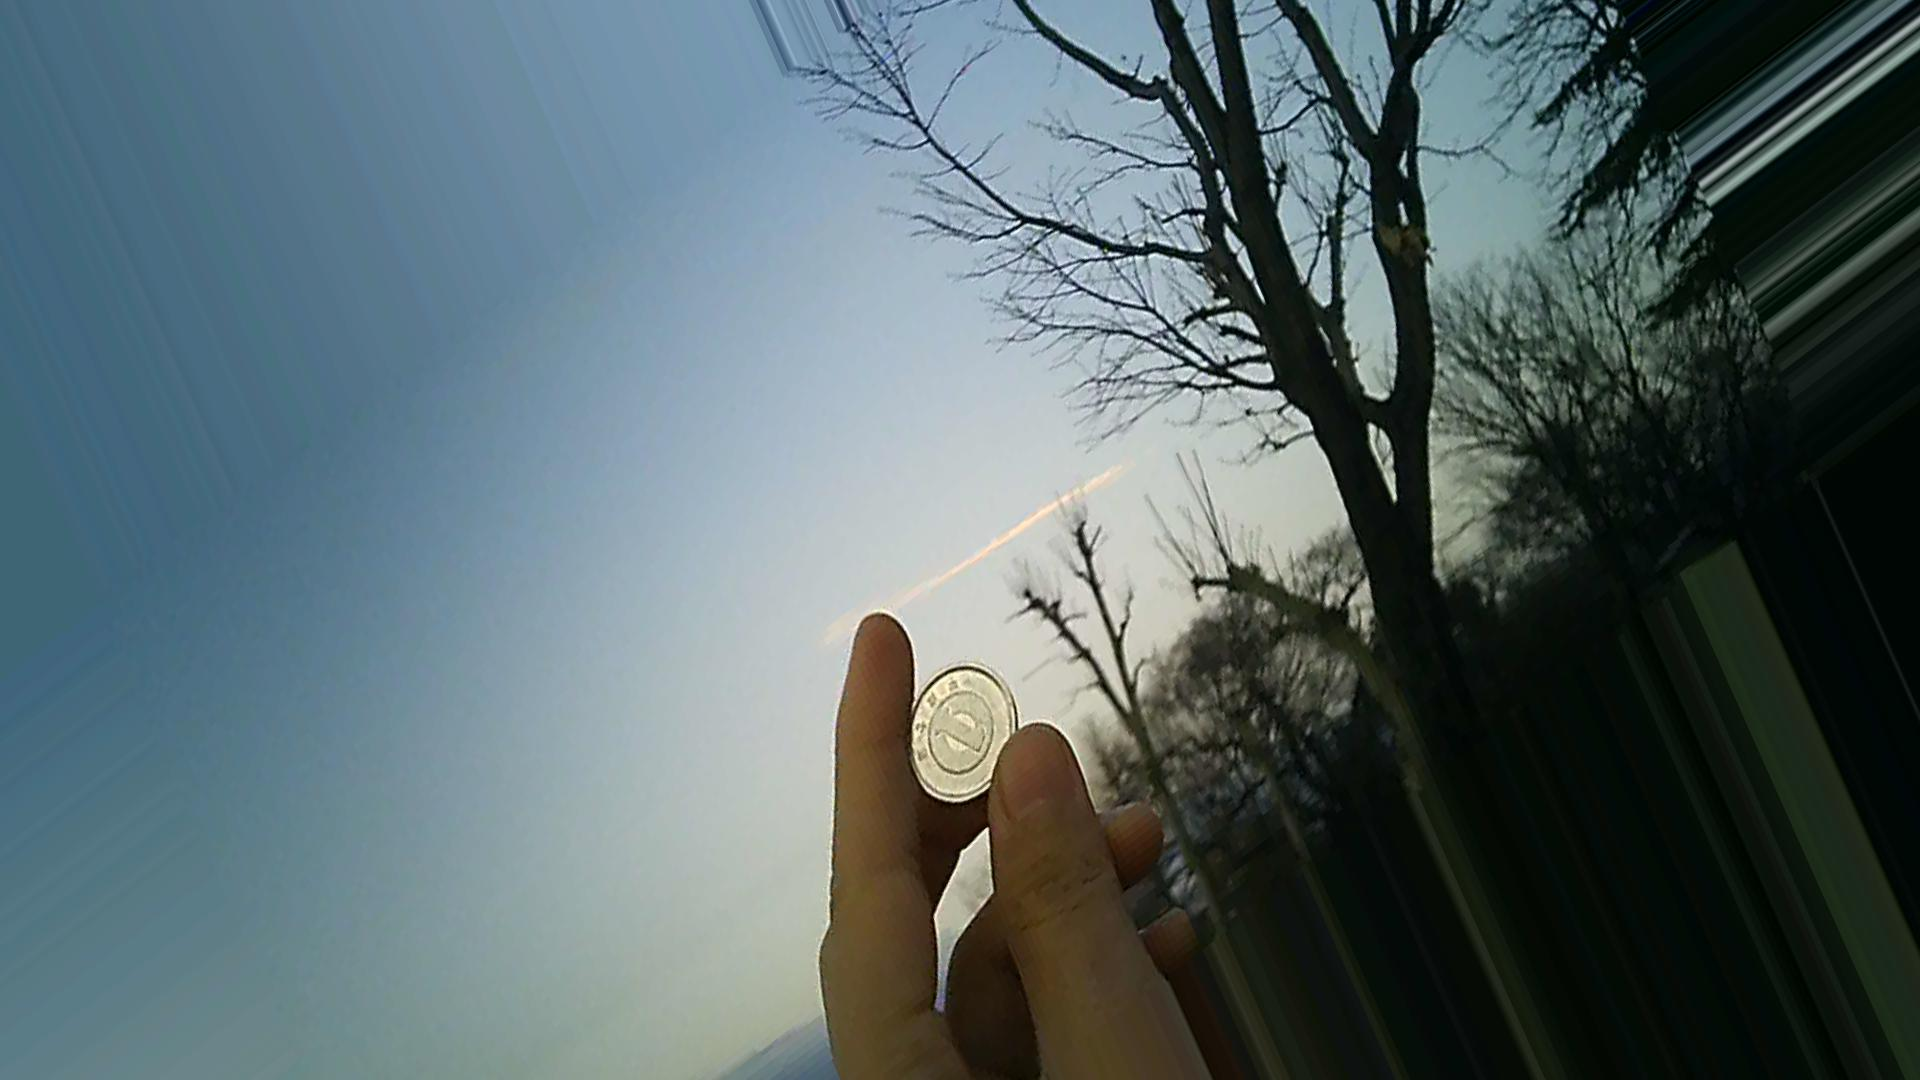1 Yen: (891, 651, 1033, 793)
